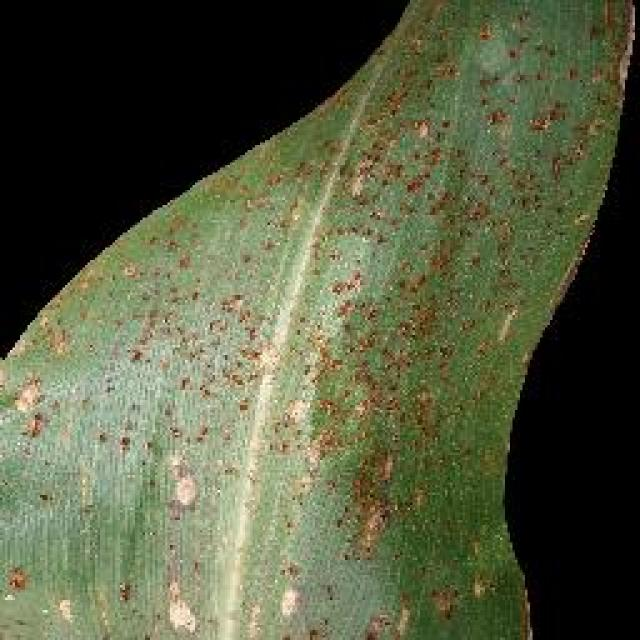Corn Common Rust: (140, 35, 548, 508)
